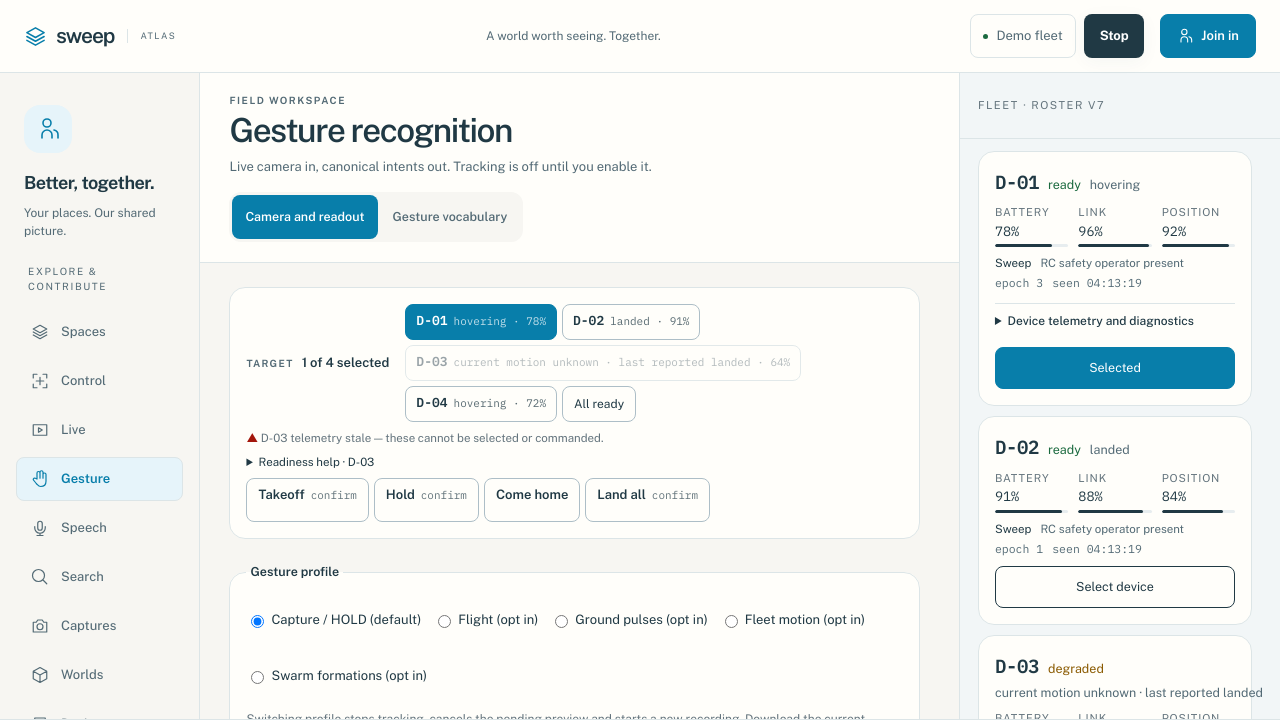
Test case: Target strip quick commands › hold drafts a preview through the dock and sends only on confirm
Click the button "Hold confirm".
click(426, 500)  # box [374, 478, 479, 522]
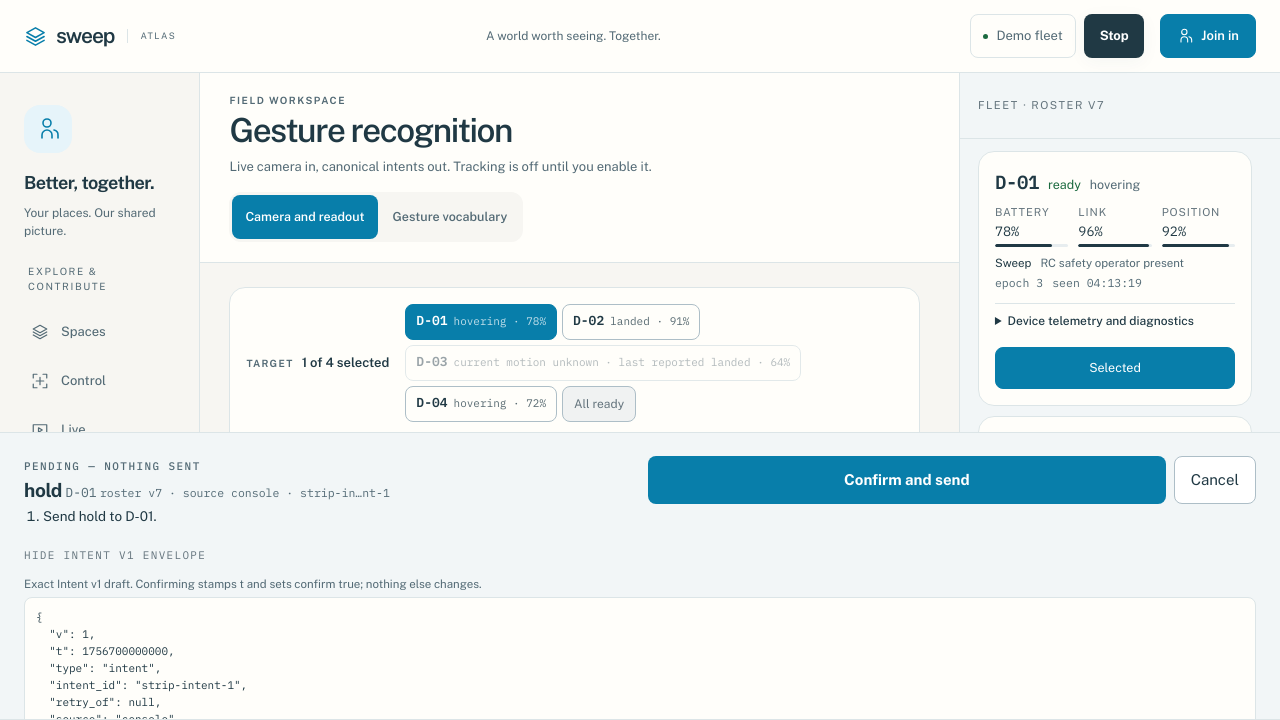
Expected: the text "hold" is shown, [24, 479, 62, 501]
Expected: the element named "Pending confirmation" shows "source console", [0, 433, 1279, 719]
Click the button "Confirm and send".
click(907, 480)  # box [648, 456, 1166, 504]
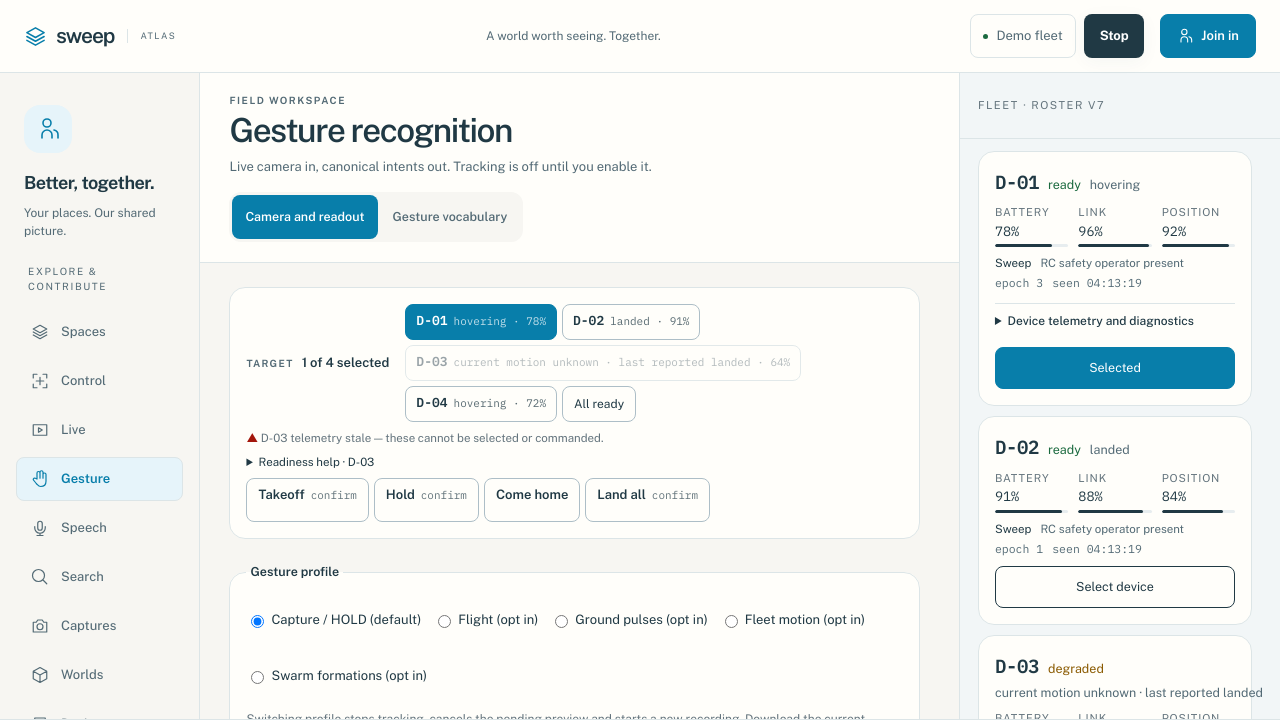
Expected: the button "Hold confirm" is enabled, [374, 478, 479, 522]
